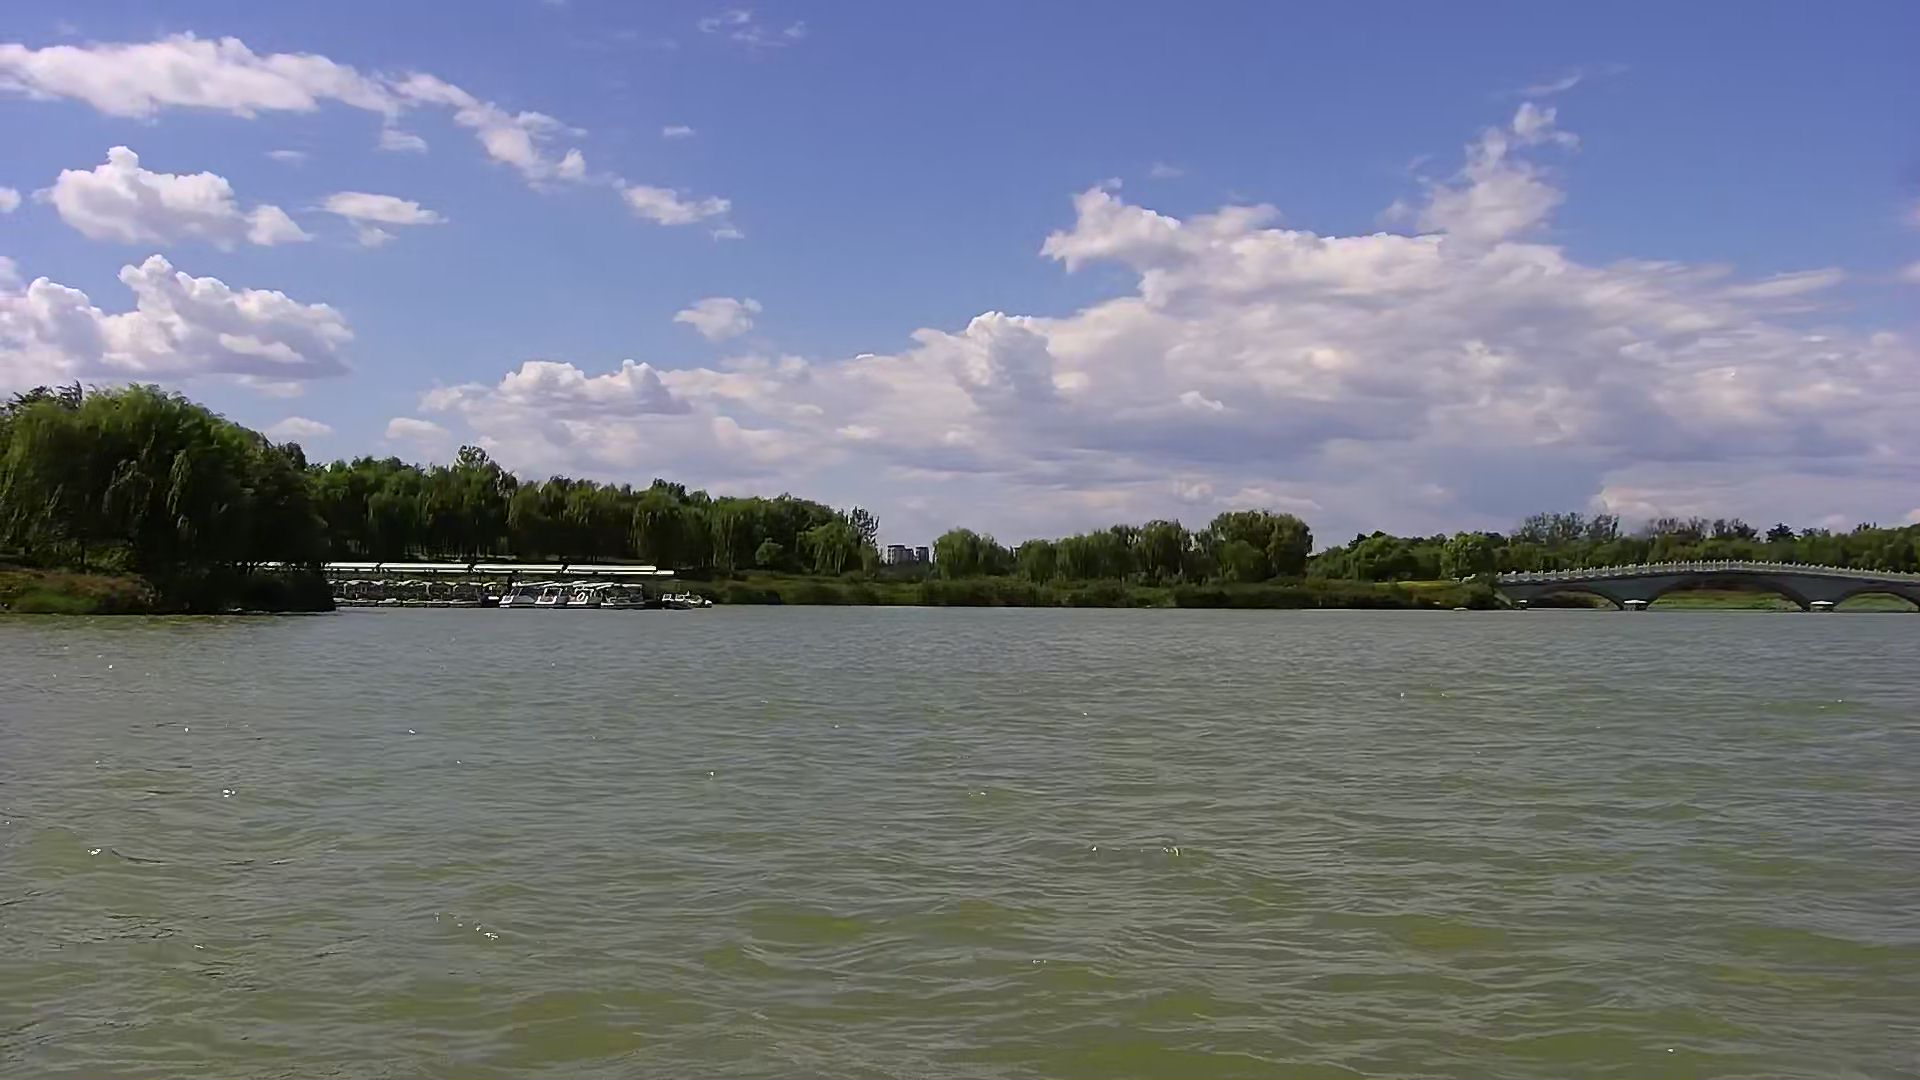bridge: (1482, 556, 1920, 612)
harbor: (335, 560, 702, 612)
